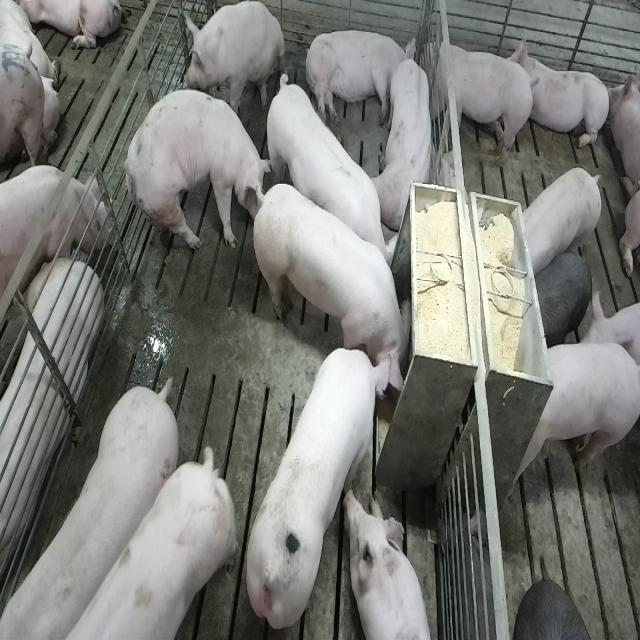Feeding: (245, 342, 400, 630), (256, 173, 420, 386)
Lateral_lying: (0, 250, 102, 617), (303, 28, 416, 128)
Sitting: (181, 0, 285, 117)
Standing: (0, 380, 176, 639), (262, 70, 396, 282), (124, 84, 272, 254), (506, 342, 638, 501), (422, 29, 535, 171), (0, 167, 107, 303), (516, 166, 603, 278), (531, 246, 594, 344)
Sternal_lying: (347, 488, 434, 640), (374, 54, 437, 230), (518, 37, 612, 153)
